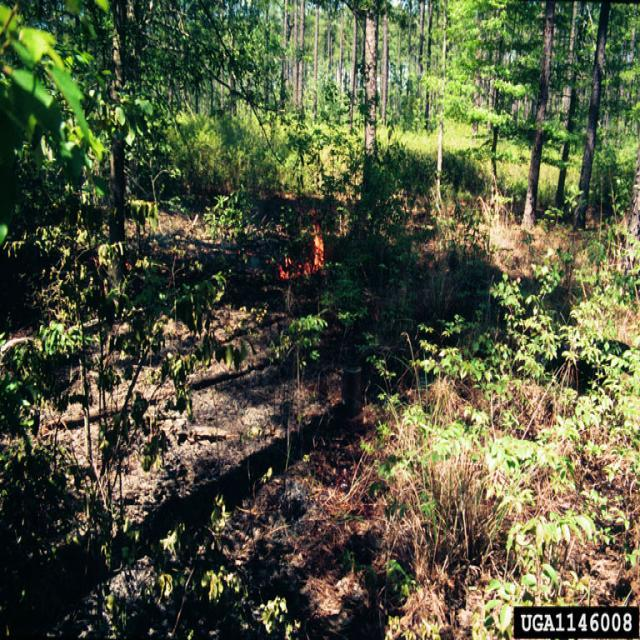Fire: (278, 223, 324, 280)
